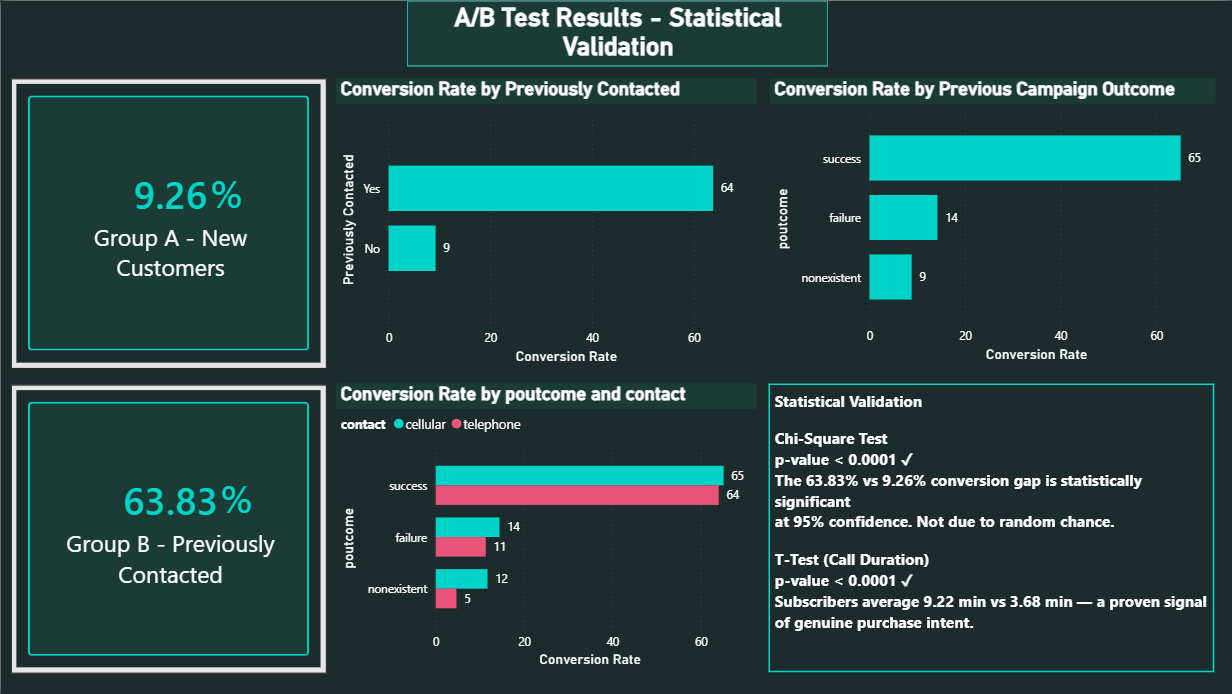

The dashboard page shown, as its layout file describes it:
{"tool":"powerbi","page":{"name":"A/B Test Results","canvas":[1280,720],"ordinal":3},"visuals":[{"type":"cardVisual","fields":{"Data":["bank_marketing_cleaned.Group A Conversion Rate"]},"box":[10,80,328.3,301.7],"z":0},{"type":"cardVisual","fields":{"Data":["bank_marketing_cleaned.Group B Conversion Rate"]},"box":[10,398.3,328.3,300],"z":1000},{"type":"barChart","fields":{"Category":["bank_marketing_cleaned.Previously Contacted"],"Y":["bank_marketing_cleaned.Conversion Rate"]},"box":[348.3,80,436.7,301.7],"z":2000},{"type":"barChart","title":"Conversion Rate by Previous Campaign Outcome","fields":{"Category":["bank_marketing_cleaned.poutcome"],"Y":["bank_marketing_cleaned.Conversion Rate"]},"box":[798.3,80,463.3,300],"z":3000},{"type":"clusteredBarChart","fields":{"Category":["bank_marketing_cleaned.poutcome"],"Series":["bank_marketing_cleaned.contact"],"Y":["bank_marketing_cleaned.Conversion Rate"]},"box":[348,398,437,300],"z":4000},{"type":"textbox","box":[798,398,463,300],"z":5000},{"type":"textbox","title":"A/B Test Results - Statistical Validation","box":[421.7,0,436.7,68.3],"z":6000},{"type":"textbox","title":"%","box":[213.3,171.7,46.7,60],"z":7000},{"type":"textbox","title":"%","box":[223.3,488.3,46.7,60],"z":8000}]}

Visuals, with their boxes in screenshot pixels (x1, y1, x2, y2), scaled from the page's 1280x720 canvas onto the 1232x694 screenshot:
cardVisual - bank_marketing_cleaned.Group A Conversion Rate: 10/77/326/368
cardVisual - bank_marketing_cleaned.Group B Conversion Rate: 10/384/326/673
barChart - bank_marketing_cleaned.Previously Contacted x bank_marketing_cleaned.Conversion Rate: 335/77/756/368
"Conversion Rate by Previous Campaign Outcome" barChart: 768/77/1214/366
clusteredBarChart - bank_marketing_cleaned.poutcome x bank_marketing_cleaned.contact: 335/384/756/673
textbox: 768/384/1214/673
"A/B Test Results - Statistical Validation" textbox: 406/0/826/66
"%" textbox: 205/165/250/223
"%" textbox: 215/471/260/529
